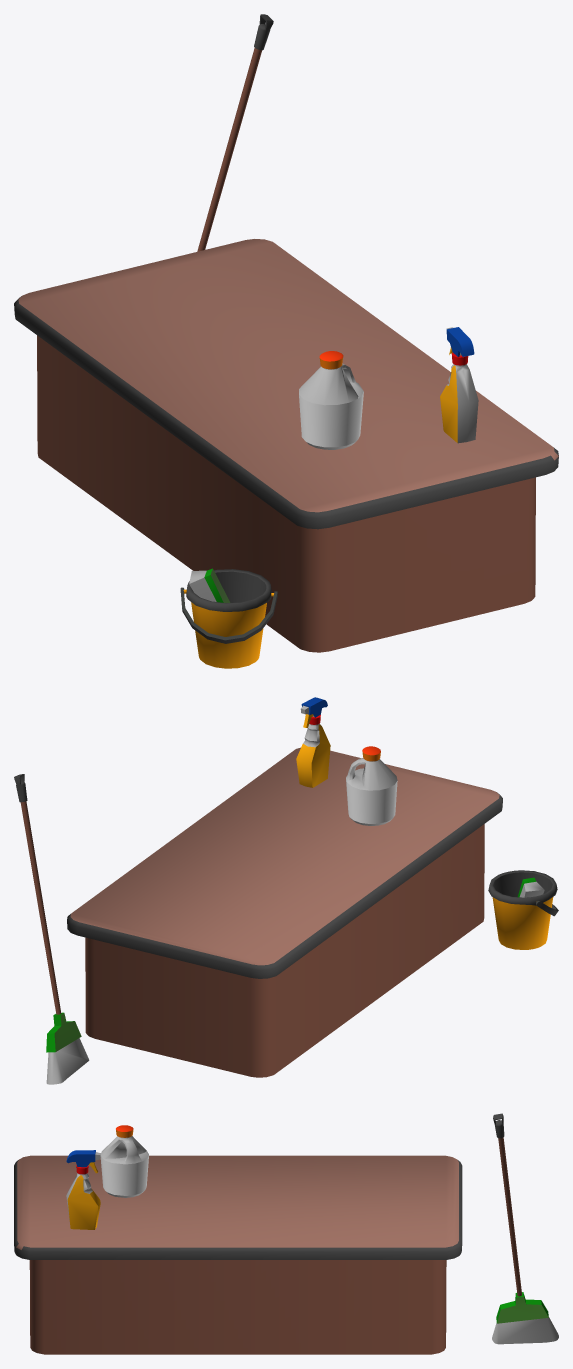
The model's file is Tea Table 002.fbx.
3 renders of one model, top to bottom at view 1: azimuth 30°, elevation 25°; view 2: azimuth 150°, elevation 25°; view 3: azimuth 270°, elevation 25°, orthographic. The views are drawn at different scales.
Parts seen in each view (by area): view 1: Tea Table 002; view 2: Tea Table 002; view 3: Tea Table 002.
Part boxes in pixels (x1=…): Tea Table 002: x1=14, y1=14, x2=558, y2=668; Tea Table 002: x1=14, y1=697, x2=558, y2=1084; Tea Table 002: x1=14, y1=1113, x2=558, y2=1354.
Size of the model in its own units: 13.06 by 11.29 by 21.96.
